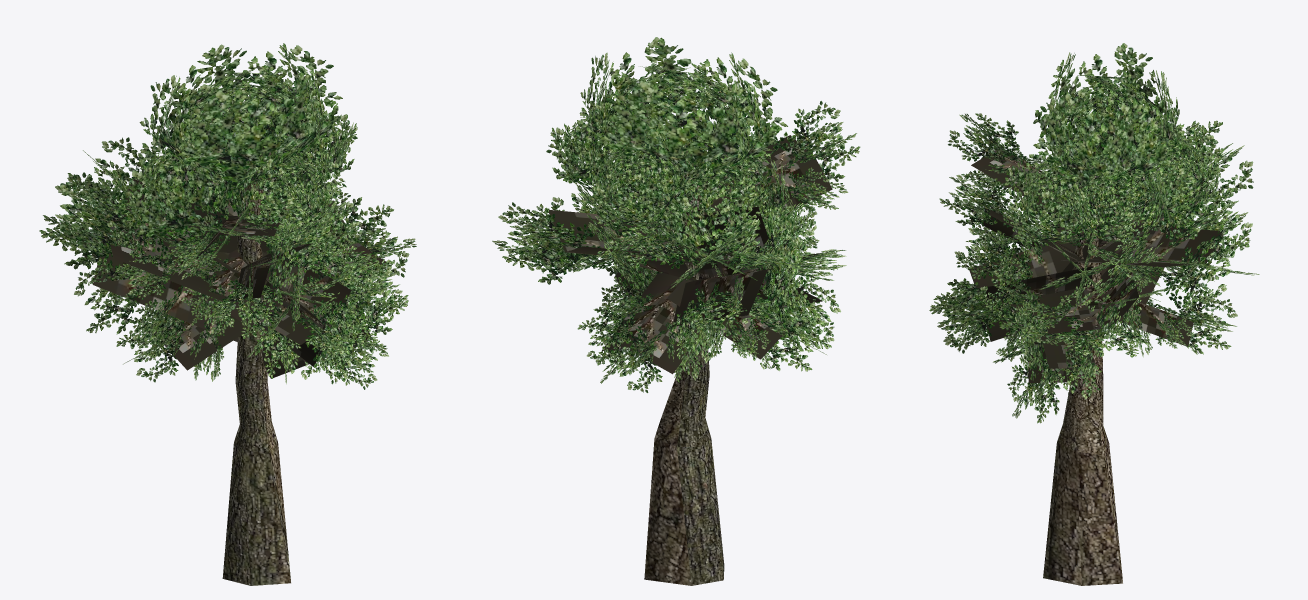
Rendered from oak-a.glb.
The picture shows the model from 3 angles, left to right: view 1: azimuth 30°, elevation 25°; view 2: azimuth 150°, elevation 25°; view 3: azimuth 270°, elevation 25°; orthographic projection. The views are drawn at different scales.
Visible parts, largest first — view 1: tree_oak_new_top_a, tree_oak_new_a; view 2: tree_oak_new_top_a, tree_oak_new_a; view 3: tree_oak_new_top_a, tree_oak_new_a.
Part boxes in pixels (box(x1,y1,x2,y2)): tree_oak_new_top_a: box(39, 43, 416, 389); tree_oak_new_a: box(92, 146, 386, 585); tree_oak_new_top_a: box(492, 37, 860, 392); tree_oak_new_a: box(549, 133, 832, 585); tree_oak_new_top_a: box(929, 43, 1259, 423); tree_oak_new_a: box(969, 148, 1223, 585).
Bounding box in the file's own units: 11.43 × 14.97 × 10.19.
2 materials, 2 textured.
